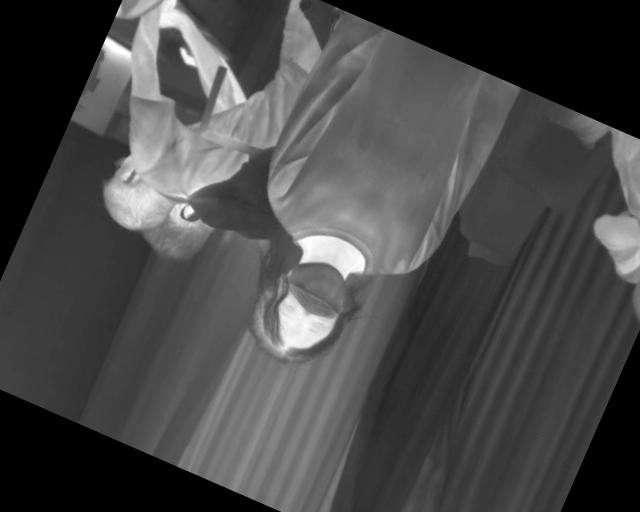face: (260, 266, 377, 398), (173, 199, 278, 324)
